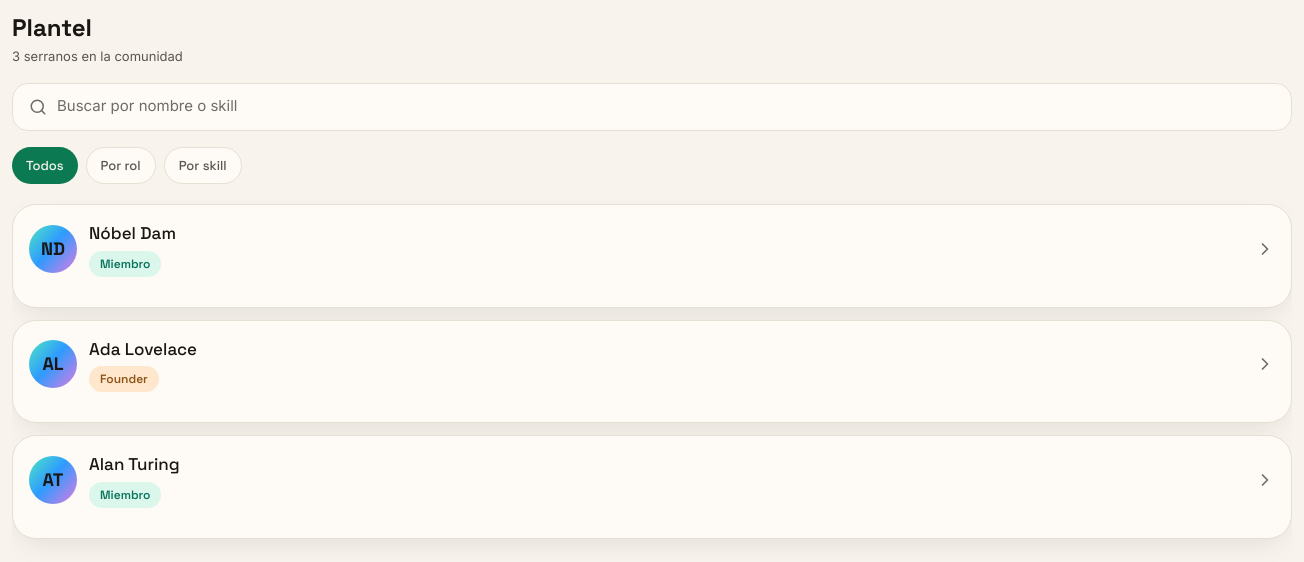
PlantelList › shows a clear button when the search has a value and clears it
Type "ada" into the field labelled "Buscar por nombre o skill" at point(666, 107), box x1=57 y1=95 x2=1275 y2=118
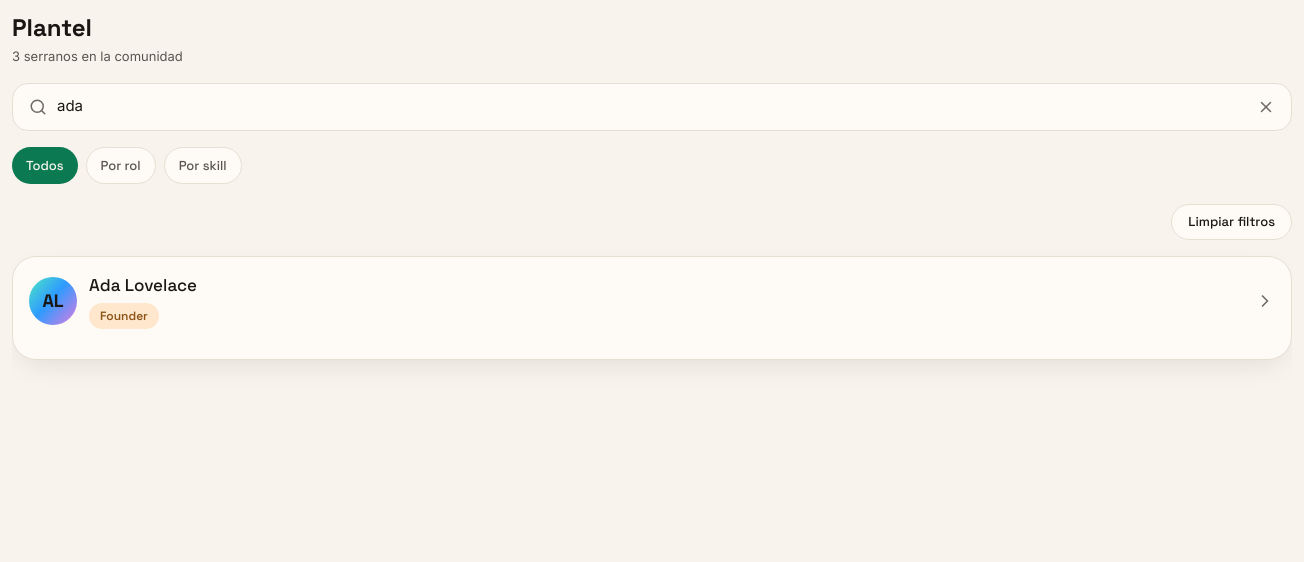
Click the button named "Limpiar búsqueda" at point(1266, 106), box x1=1257 y1=98 x2=1275 y2=116
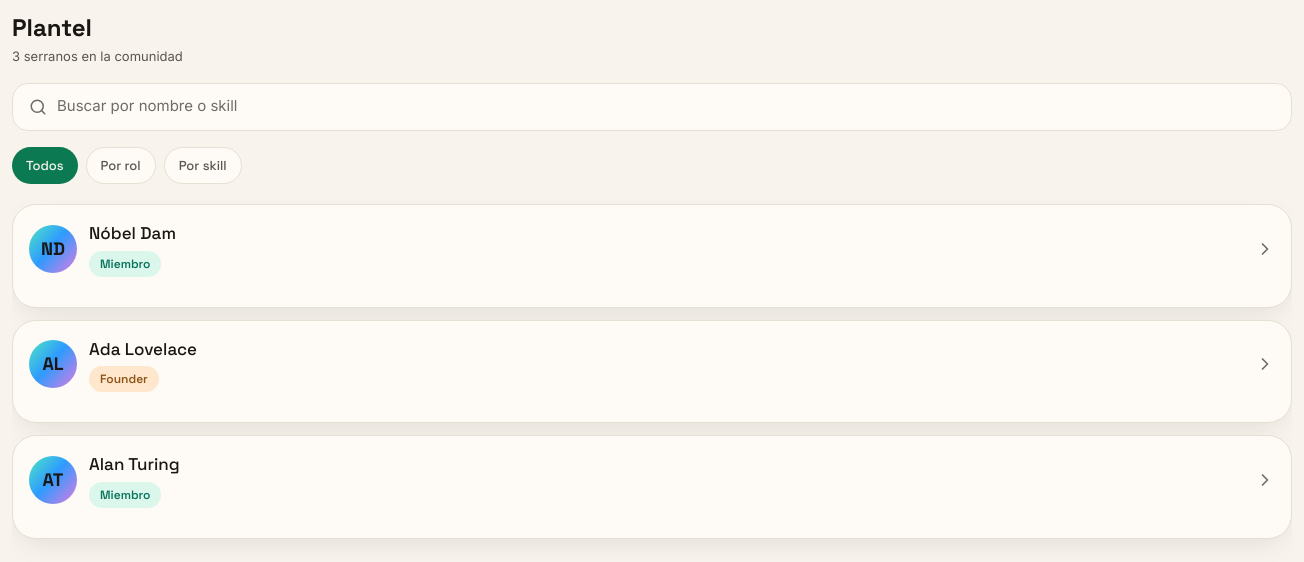
Now the field labelled "Buscar por nombre o skill" is empty, box x1=57 y1=95 x2=1275 y2=118
Now the text "Nóbel Dam" is shown, box x1=89 y1=221 x2=176 y2=246
